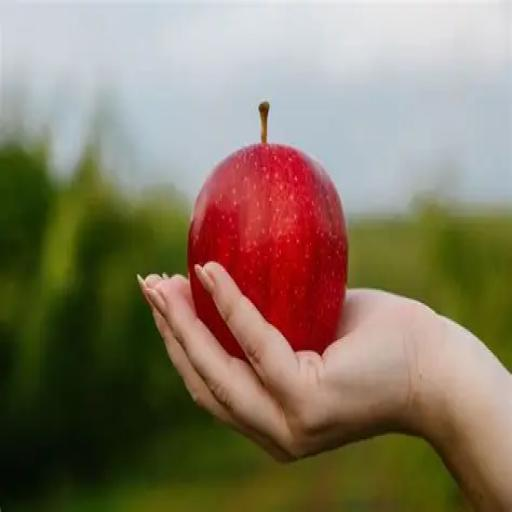apple: (187, 103, 347, 359)
